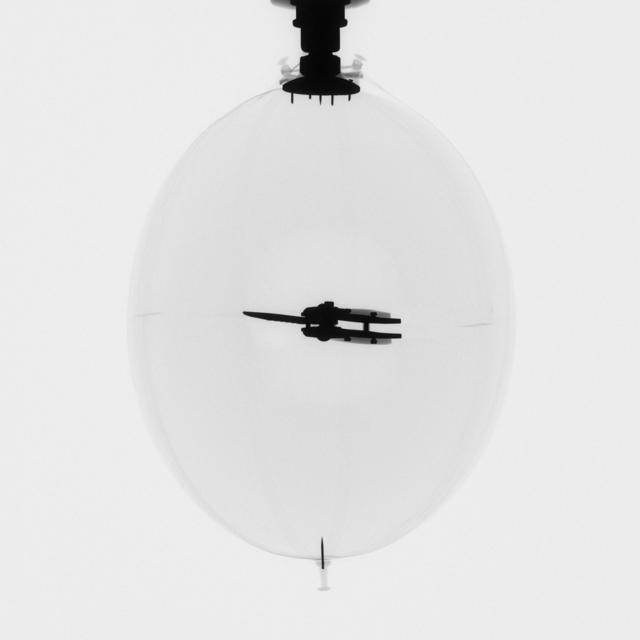knife: (238, 293, 410, 357)
